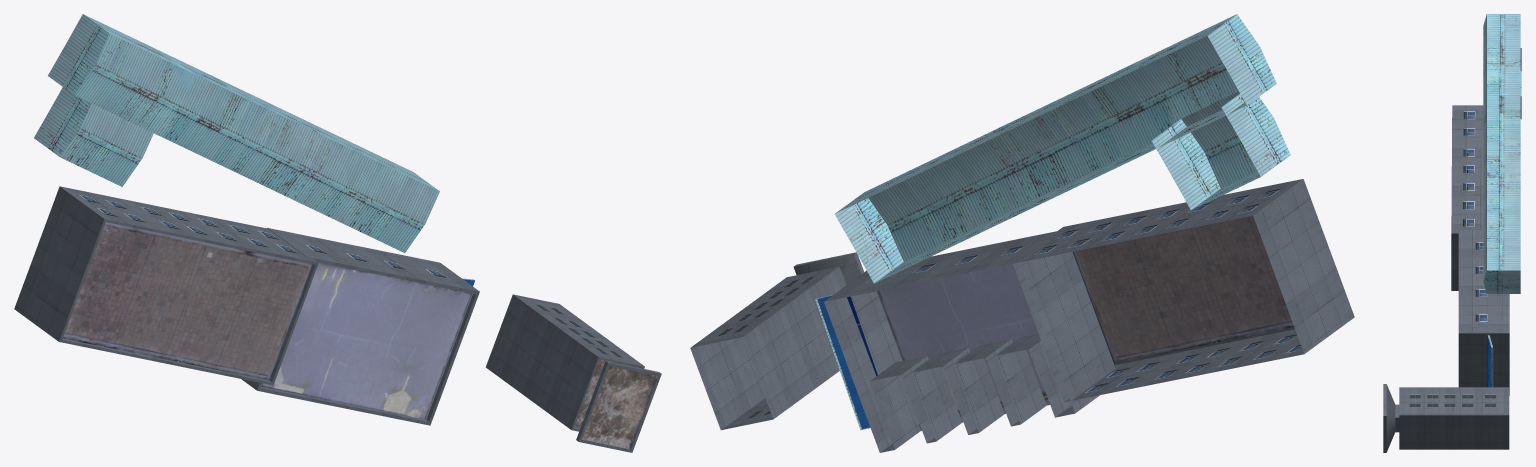
The picture shows the model from 3 angles, left to right: view 1: azimuth 30°, elevation 25°; view 2: azimuth 150°, elevation 25°; view 3: azimuth 270°, elevation 25°; orthographic projection. The views are drawn at different scales.
Parts seen in each view (by area): view 1: p6a_02_02; view 2: p6a_02_02; view 3: p6a_02_02.
Boxes of the visible parts, box(x1,y1,x2,y2) form: p6a_02_02: box(14, 14, 661, 452); p6a_02_02: box(690, 14, 1354, 452); p6a_02_02: box(1383, 14, 1521, 452).
Size of the model in its own units: 6090 by 4964 by 2075.
